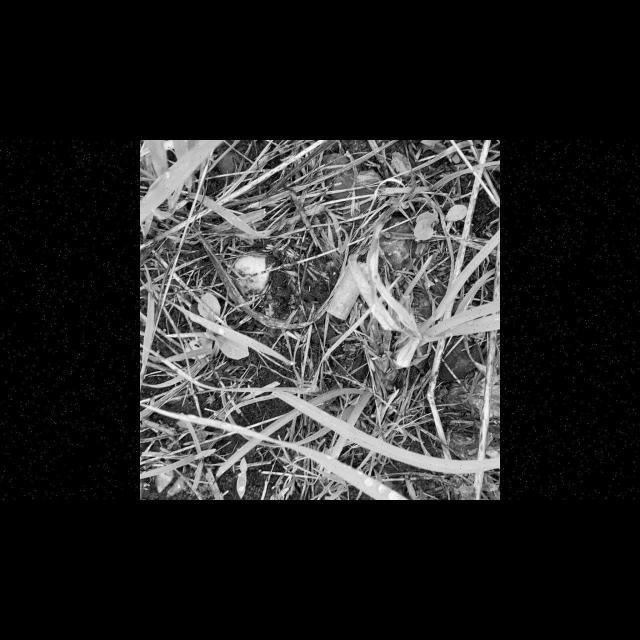cigarette: (326, 261, 370, 319)
